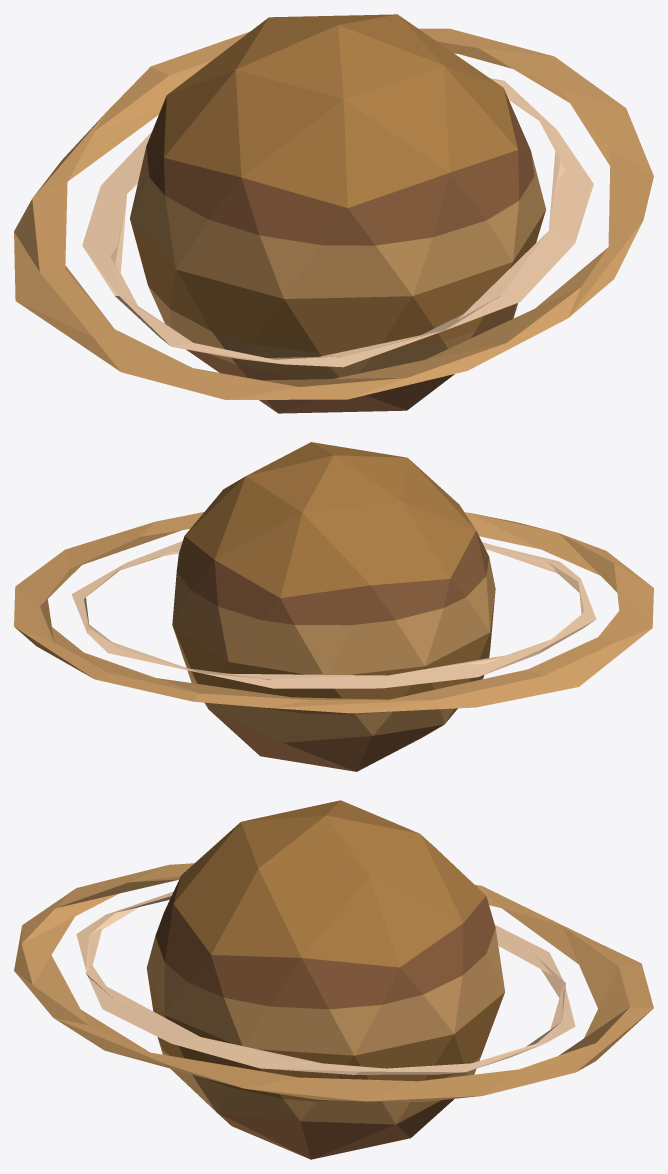
File: space_planet-ring.fbx
The picture shows the model from 3 angles, top to bottom: view 1: azimuth 30°, elevation 25°; view 2: azimuth 150°, elevation 25°; view 3: azimuth 270°, elevation 25°; orthographic projection. The views are drawn at different scales.
Visible parts, largest first — view 1: space_planet_ring; view 2: space_planet_ring; view 3: space_planet_ring.
Part boxes in pixels (box(x1,y1,x2,y2)): space_planet_ring: box(14, 14, 653, 413); space_planet_ring: box(14, 442, 653, 771); space_planet_ring: box(14, 800, 653, 1159).
Size of the model in its own units: 196 by 113 by 200.
